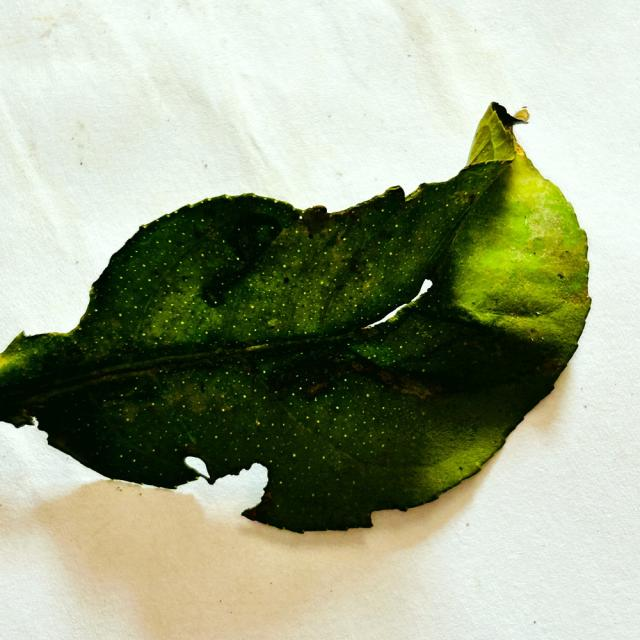Deficiency Leaf: (177, 457, 270, 520), (367, 279, 432, 327)
Lemon: (0, 102, 590, 532)
